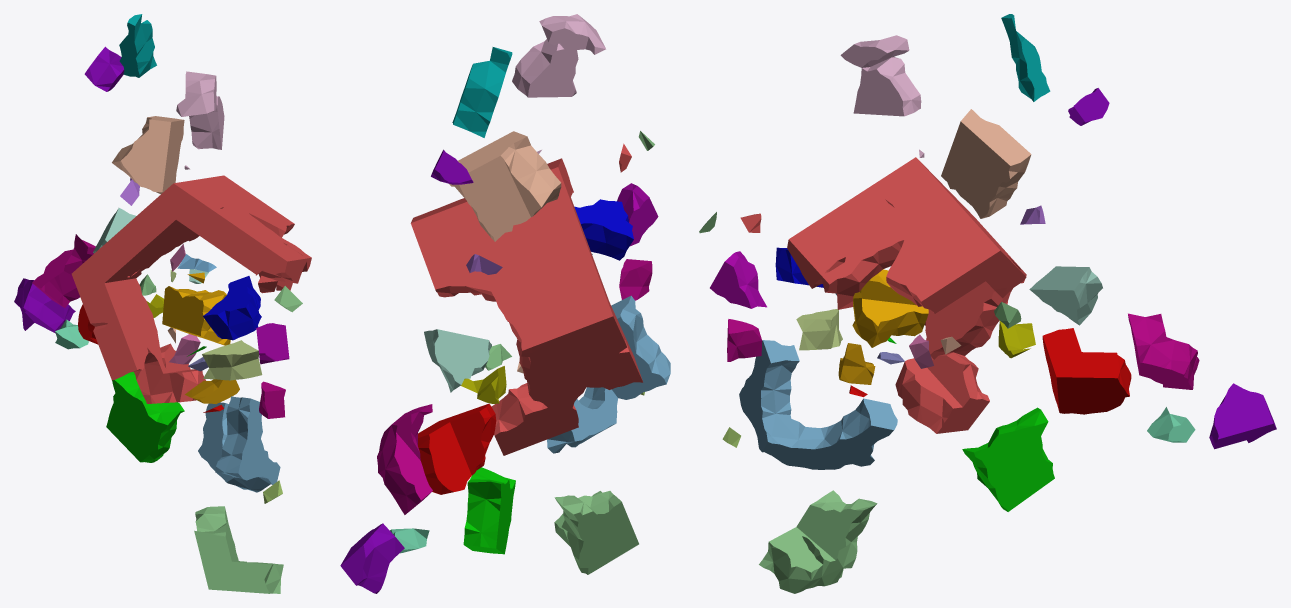
Rendered from fractured_77_39pcs_transformed.glb.
The picture shows the model from 3 angles, left to right: view 1: azimuth 30°, elevation 25°; view 2: azimuth 150°, elevation 25°; view 3: azimuth 270°, elevation 25°; orthographic projection. The views are drawn at different scales.
Visible parts, largest first — view 1: piece_1.obj, piece_2.obj, piece_3.obj, piece_8.obj, piece_7.obj, piece_6.obj, piece_10.obj, piece_0.obj, piece_15.obj, piece_5.obj, piece_16.obj, piece_13.obj (+10 smaller); view 2: piece_1.obj, piece_7.obj, piece_2.obj, piece_9.obj, piece_3.obj, piece_6.obj, piece_15.obj, piece_8.obj, piece_13.obj, piece_4.obj, piece_16.obj, piece_10.obj (+6 smaller); view 3: piece_1.obj, piece_2.obj, piece_3.obj, piece_7.obj, piece_8.obj, piece_9.obj, piece_6.obj, piece_0.obj, piece_15.obj, piece_16.obj, piece_4.obj, piece_12.obj (+8 smaller).
Part boxes in pixels (<box>): piece_1.obj: <box>71,175,311,403</box>; piece_2.obj: <box>198,396,280,492</box>; piece_3.obj: <box>194,506,283,593</box>; piece_8.obj: <box>106,371,184,462</box>; piece_7.obj: <box>112,116,184,194</box>; piece_6.obj: <box>176,71,224,149</box>; piece_10.obj: <box>203,276,261,340</box>; piece_0.obj: <box>162,286,230,345</box>; piece_15.obj: <box>32,234,95,307</box>; piece_5.obj: <box>202,340,262,380</box>; piece_16.obj: <box>14,278,75,333</box>; piece_13.obj: <box>119,14,156,77</box>; piece_1.obj: <box>410,158,643,455</box>; piece_7.obj: <box>449,131,561,241</box>; piece_2.obj: <box>547,295,670,453</box>; piece_9.obj: <box>418,403,496,494</box>; piece_3.obj: <box>554,491,638,574</box>; piece_6.obj: <box>512,14,605,97</box>; piece_15.obj: <box>377,404,432,514</box>; piece_8.obj: <box>463,467,515,554</box>; piece_13.obj: <box>452,47,512,137</box>; piece_4.obj: <box>424,329,491,392</box>; piece_16.obj: <box>340,523,404,593</box>; piece_10.obj: <box>574,199,633,260</box>; piece_1.obj: <box>787,157,1026,433</box>; piece_2.obj: <box>739,340,897,469</box>; piece_3.obj: <box>759,490,877,593</box>; piece_7.obj: <box>941,109,1031,218</box>; piece_8.obj: <box>962,407,1054,511</box>; piece_9.obj: <box>1042,328,1131,414</box>; piece_6.obj: <box>840,35,921,116</box>; piece_0.obj: <box>852,269,928,347</box>; piece_15.obj: <box>1128,313,1199,389</box>; piece_16.obj: <box>1209,383,1276,449</box>; piece_4.obj: <box>1029,266,1102,325</box>; piece_12.obj: <box>710,251,766,308</box>.
Size of the model in its own units: 0.9863 by 2.45 by 2.28.
